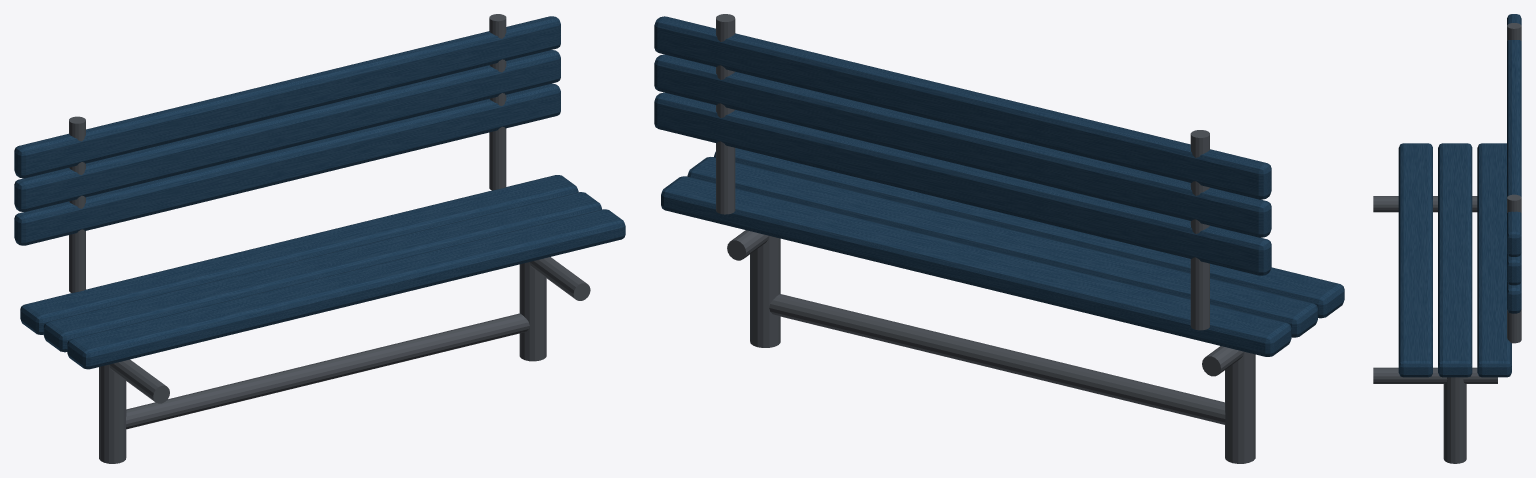
File: banca.fbx
3 renders of one model, left to right at view 1: azimuth 30°, elevation 25°; view 2: azimuth 150°, elevation 25°; view 3: azimuth 270°, elevation 25°, orthographic. The views are drawn at different scales.
Parts seen in each view (by area): view 1: Banca_Asiento_Tabla_1, Banca_Respaldo_Tabla_3, Banca_Respaldo_Tabla_1, Banca_Respaldo_Tabla_2, Banca_Asiento_Tabla_2, Banca_Asiento_Tabla_3, Banca_Barra_Inferior, Banca_Pata, Banca_Pata.001, Banca_Postes_Respaldo.001, Banca_Postes_Respaldo, Banca_Soporte_Transversal (+1 smaller); view 2: Banca_Respaldo_Tabla_3, Banca_Asiento_Tabla_3, Banca_Respaldo_Tabla_2, Banca_Respaldo_Tabla_1, Banca_Asiento_Tabla_2, Banca_Barra_Inferior, Banca_Asiento_Tabla_1, Banca_Pata, Banca_Pata.001, Banca_Postes_Respaldo, Banca_Postes_Respaldo.001, Banca_Soporte_Transversal (+1 smaller); view 3: Banca_Asiento_Tabla_2, Banca_Asiento_Tabla_1, Banca_Asiento_Tabla_3, Banca_Respaldo_Tabla_3, Banca_Pata.001, Banca_Soporte_Transversal.001, Banca_Postes_Respaldo.001, Banca_Soporte_Transversal, Banca_Respaldo_Tabla_1, Banca_Respaldo_Tabla_2, Banca_Postes_Respaldo.
Boxes of the visible parts, <box> form: Banca_Asiento_Tabla_1: <box>67,209,625,369</box>; Banca_Respaldo_Tabla_3: <box>14,16,560,178</box>; Banca_Respaldo_Tabla_1: <box>14,83,560,245</box>; Banca_Respaldo_Tabla_2: <box>14,50,560,211</box>; Banca_Asiento_Tabla_2: <box>43,192,601,352</box>; Banca_Asiento_Tabla_3: <box>20,175,578,334</box>; Banca_Barra_Inferior: <box>126,313,529,429</box>; Banca_Pata: <box>99,364,126,463</box>; Banca_Pata.001: <box>519,262,546,361</box>; Banca_Postes_Respaldo.001: <box>489,14,506,190</box>; Banca_Postes_Respaldo: <box>69,116,85,292</box>; Banca_Soporte_Transversal: <box>109,359,169,403</box>; Banca_Respaldo_Tabla_3: <box>654,16,1271,199</box>; Banca_Asiento_Tabla_3: <box>661,176,1291,356</box>; Banca_Respaldo_Tabla_2: <box>654,54,1271,237</box>; Banca_Respaldo_Tabla_1: <box>654,92,1271,275</box>; Banca_Asiento_Tabla_2: <box>687,157,1317,337</box>; Banca_Barra_Inferior: <box>769,294,1225,424</box>; Banca_Asiento_Tabla_1: <box>714,148,1344,318</box>; Banca_Pata: <box>1225,352,1255,463</box>; Banca_Pata.001: <box>750,236,780,347</box>; Banca_Postes_Respaldo: <box>1190,130,1209,330</box>; Banca_Postes_Respaldo.001: <box>716,14,735,214</box>; Banca_Soporte_Transversal: <box>1202,346,1244,376</box>; Banca_Asiento_Tabla_2: <box>1438,143,1472,377</box>; Banca_Asiento_Tabla_1: <box>1398,143,1432,377</box>; Banca_Asiento_Tabla_3: <box>1477,143,1511,377</box>; Banca_Respaldo_Tabla_3: <box>1507,14,1521,256</box>; Banca_Pata.001: <box>1443,377,1466,463</box>; Banca_Soporte_Transversal.001: <box>1373,367,1497,383</box>; Banca_Postes_Respaldo.001: <box>1507,194,1521,343</box>; Banca_Soporte_Transversal: <box>1373,196,1477,212</box>; Banca_Respaldo_Tabla_1: <box>1507,281,1521,313</box>; Banca_Respaldo_Tabla_2: <box>1507,253,1521,285</box>; Banca_Postes_Respaldo: <box>1507,23,1521,40</box>.
Size of the model in its own units: 160 by 88 by 45.25.
